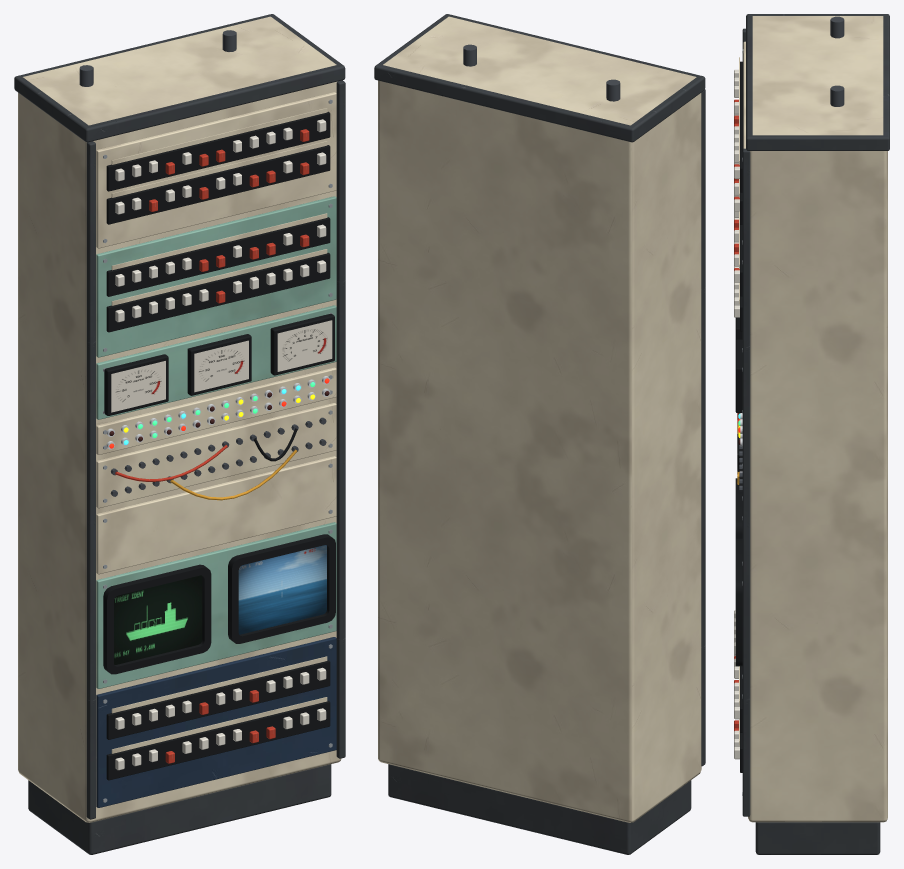
Rendered from Rack_75_3.glb.
3 renders of one model, left to right at view 1: azimuth 30°, elevation 25°; view 2: azimuth 150°, elevation 25°; view 3: azimuth 270°, elevation 25°, orthographic.
Visible parts, largest first — view 1: Rack_75_3_Body; view 2: Rack_75_3_Body; view 3: Rack_75_3_Body.
Part boxes in pixels (x1,y1,x2,y2): Rack_75_3_Body: (14,14,345,854); Rack_75_3_Body: (374,14,705,854); Rack_75_3_Body: (734,14,889,854).
Size of the model in its own units: 0.76 by 2.1 by 0.401.
20 materials, 11 textured.
